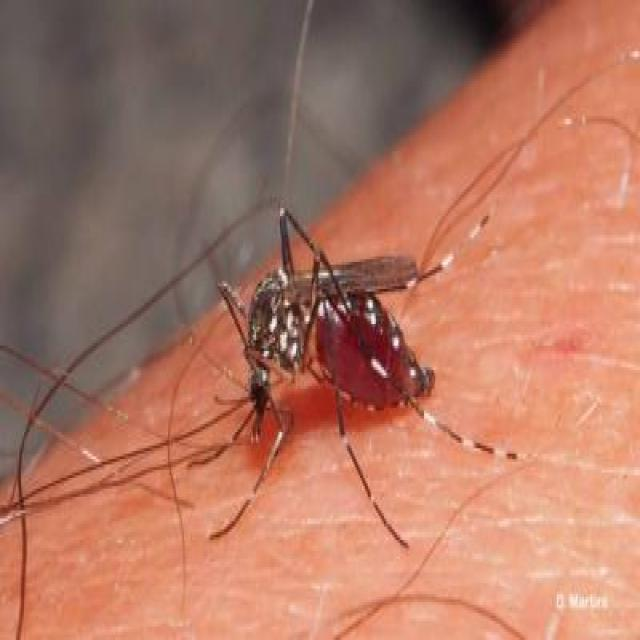body: (248, 268, 436, 436)
insect: (210, 207, 521, 547)
legs: (334, 396, 519, 545), (212, 394, 289, 545), (422, 209, 502, 301), (270, 209, 340, 275), (218, 266, 248, 361)
wings: (283, 252, 421, 300)
